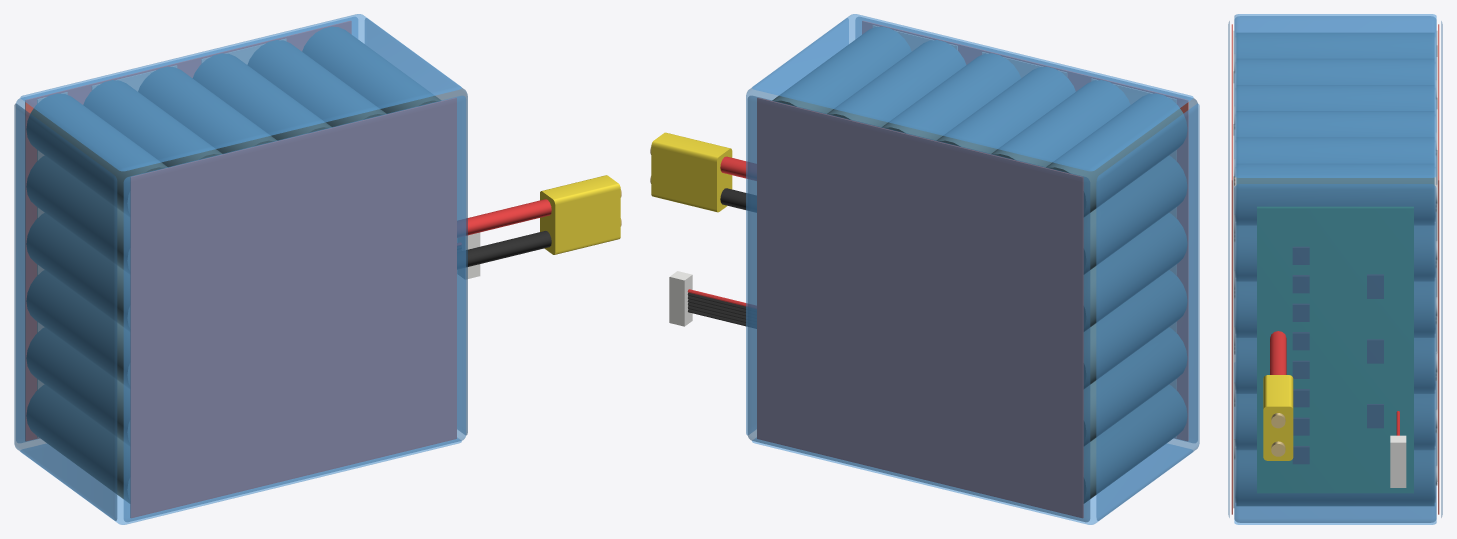
The model's file is battery.glb.
The picture shows the model from 3 angles, left to right: view 1: azimuth 30°, elevation 25°; view 2: azimuth 150°, elevation 25°; view 3: azimuth 270°, elevation 25°; orthographic projection.
Parts seen in each view (by area): view 1: c_1966d8_a34, c_c63833, c_19384c, yellow_plastic, wire_black, wire_red, nickel; view 2: c_1966d8_a34, c_c63833, c_19384c, yellow_plastic, wire_black, nickel, white_plastic, wire_red; view 3: c_1966d8_a34, c_19384c, pcb_green, ic, yellow_plastic, c_c63833, nickel, steel, white_plastic, wire_red, gold.
Boxes of the visible parts, x1,y1,x2,y2 form: c_1966d8_a34: (14, 14, 467, 524); c_c63833: (25, 21, 456, 517); c_19384c: (26, 27, 441, 503); yellow_plastic: (540, 175, 620, 254); wire_black: (457, 231, 551, 268); wire_red: (457, 199, 551, 245); nickel: (37, 39, 286, 437); c_1966d8_a34: (746, 14, 1199, 524); c_c63833: (757, 21, 1188, 517); c_19384c: (772, 27, 1187, 503); yellow_plastic: (651, 132, 732, 212); wire_black: (687, 188, 756, 328); nickel: (873, 25, 1176, 437); white_plastic: (669, 271, 692, 326); wire_red: (687, 156, 756, 308); c_1966d8_a34: (1228, 14, 1442, 524); c_19384c: (1236, 33, 1434, 505); pcb_green: (1257, 207, 1413, 492); ic: (1293, 247, 1383, 463); yellow_plastic: (1263, 375, 1293, 460); c_c63833: (1231, 24, 1439, 514); nickel: (1233, 30, 1437, 508); steel: (1234, 36, 1437, 502); white_plastic: (1390, 435, 1406, 487); wire_red: (1270, 331, 1399, 435); gold: (1271, 413, 1285, 456).
Bounding box in the file's own units: 0.208 × 0.135 × 0.075.
